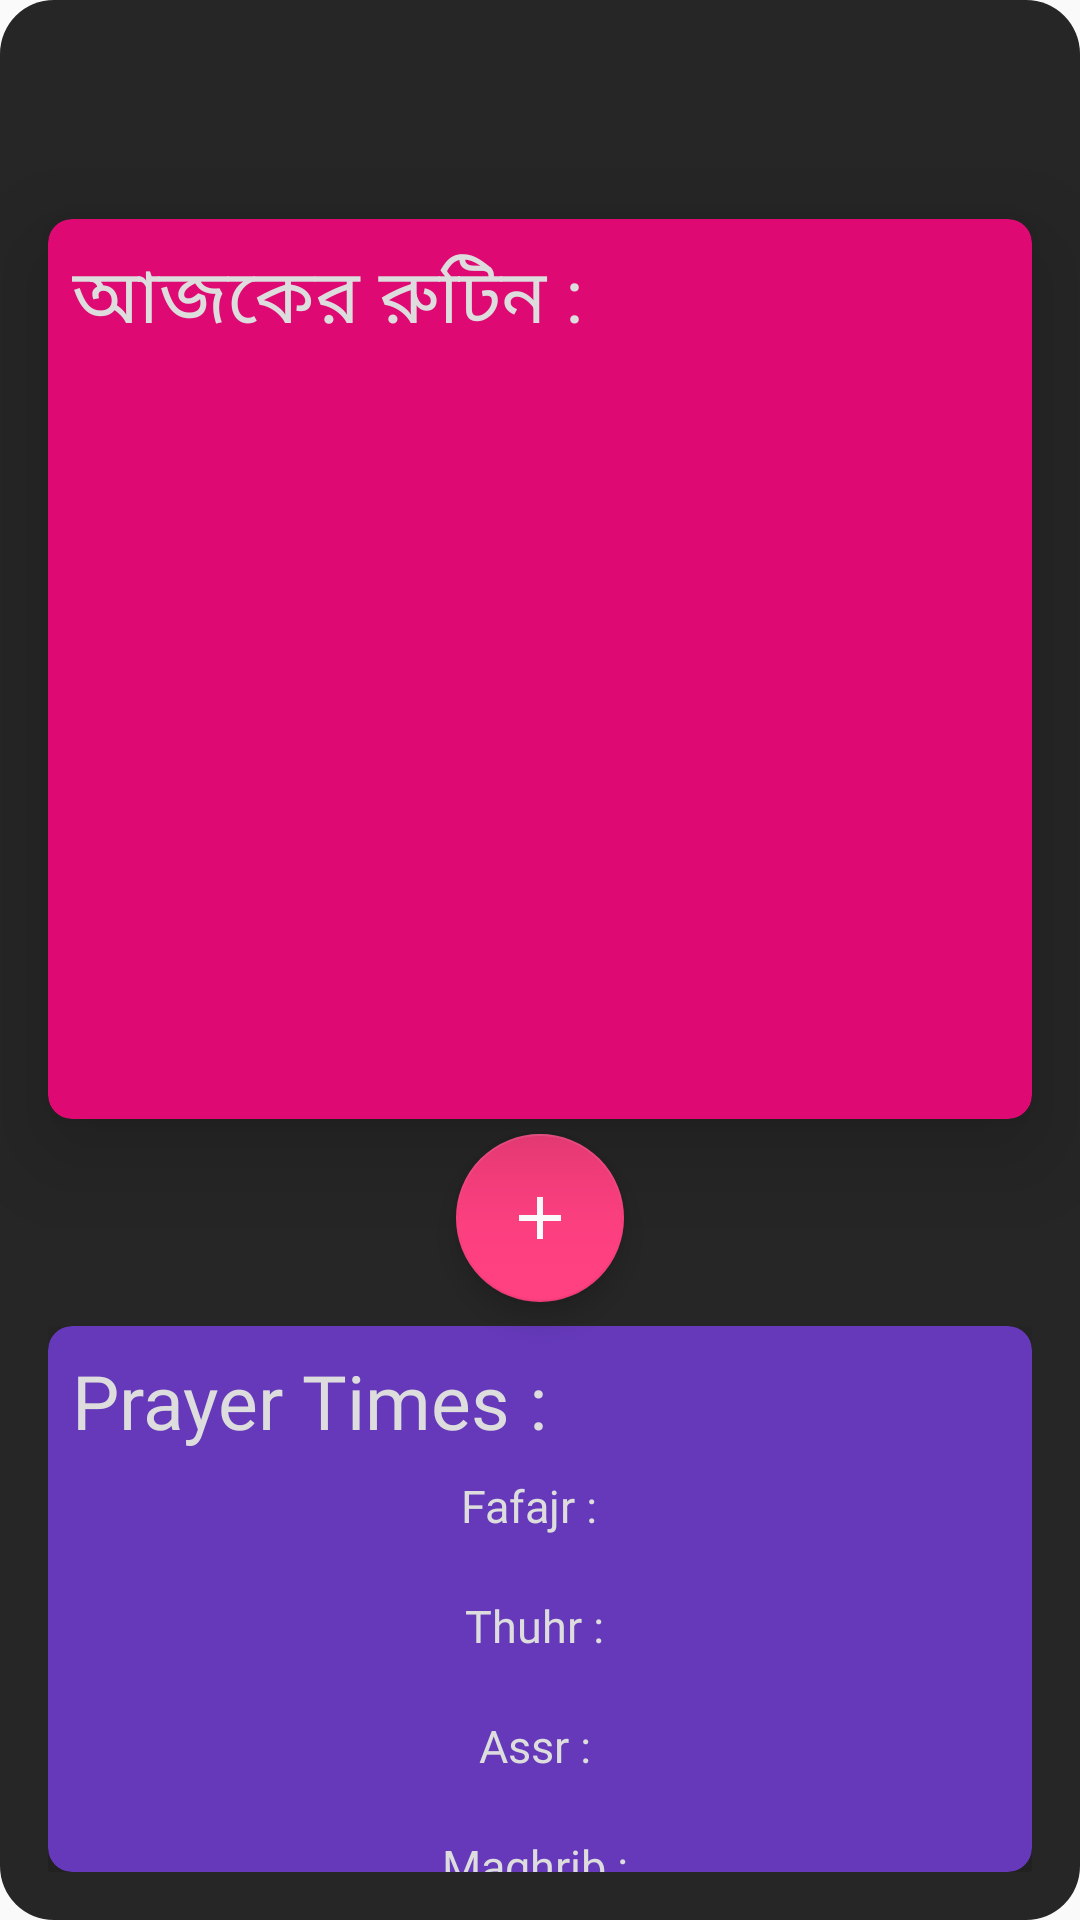

Icons on this 1080 × 1920 Android screen, each with its box as (x1, y1, x2, y2):
add: (456, 1134, 624, 1302)
